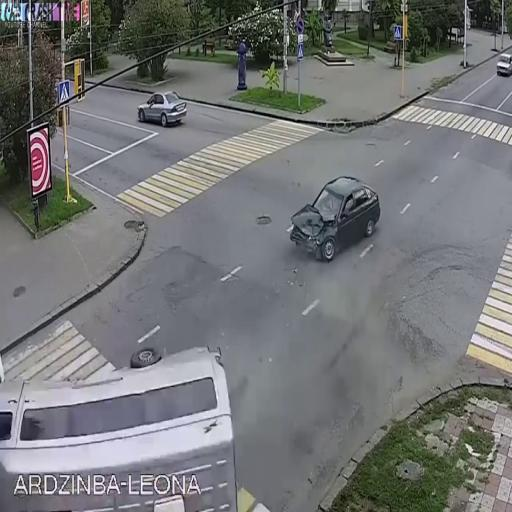小汽车: (137, 82, 185, 132), (495, 51, 512, 75)
小汽车撞小汽车: (8, 178, 380, 505)
